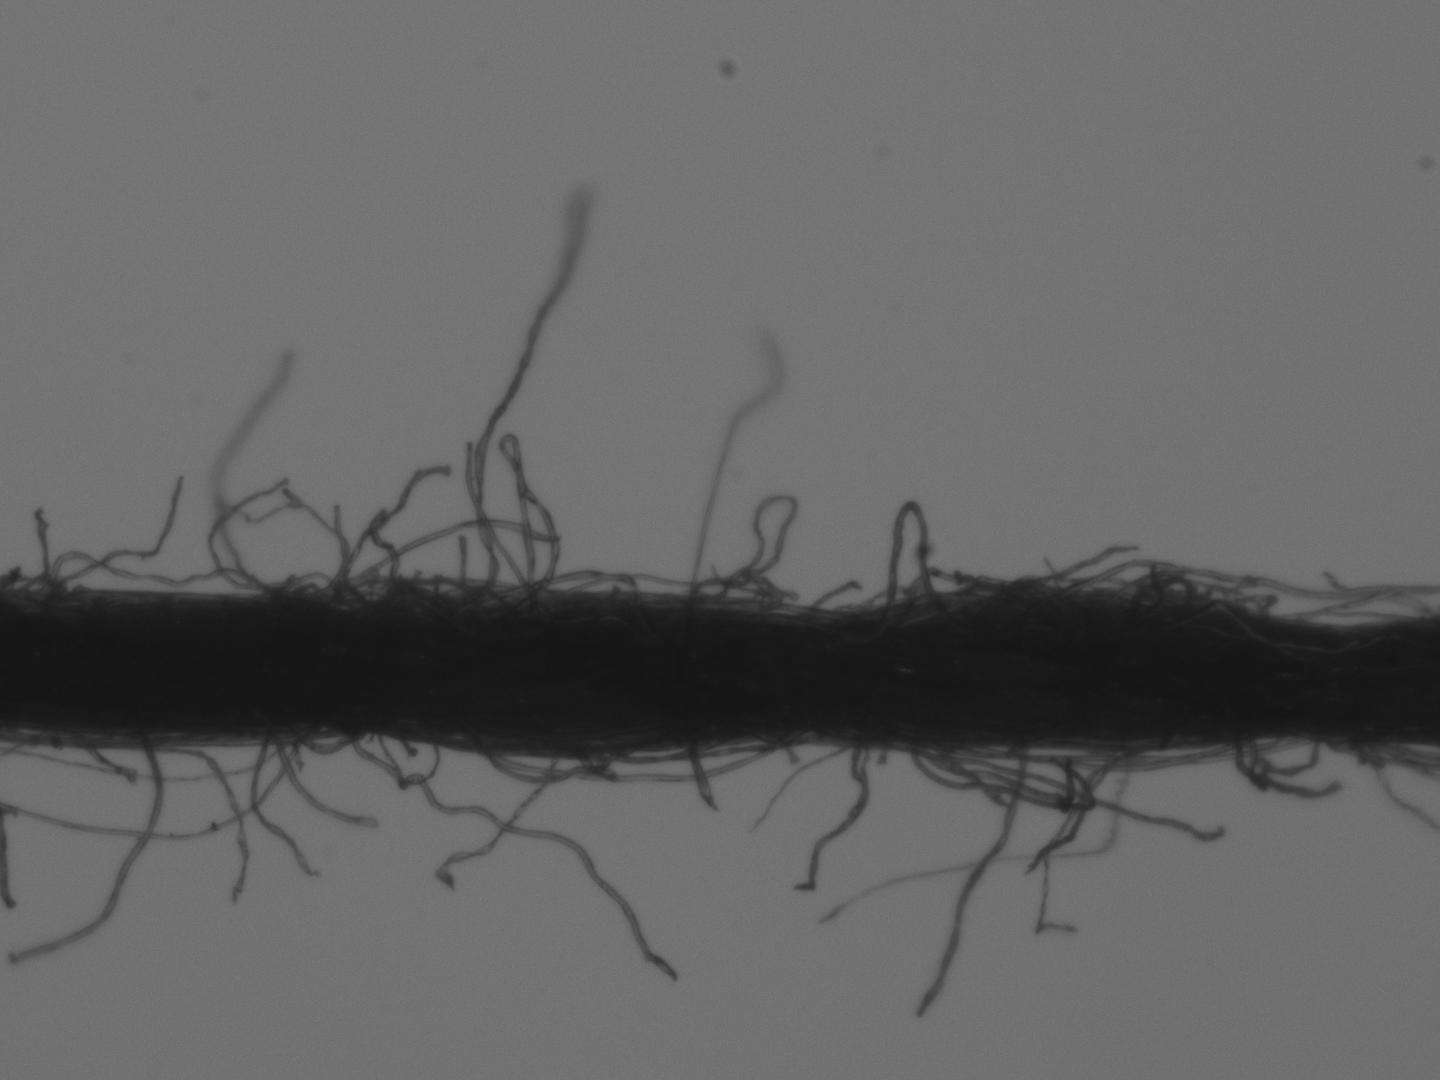loop_fiber: (920, 746, 1094, 815), (876, 505, 945, 627), (1102, 577, 1265, 624), (476, 746, 626, 785), (1286, 593, 1429, 628), (341, 735, 431, 782), (685, 572, 786, 613), (251, 573, 334, 613), (429, 572, 503, 613), (1243, 740, 1320, 776), (559, 575, 638, 601), (2, 569, 67, 597), (291, 729, 357, 754)
protruding_fiber: (373, 736, 687, 989), (912, 745, 1035, 1024), (804, 742, 866, 893), (252, 739, 317, 880), (277, 736, 378, 828), (679, 740, 717, 816), (32, 505, 63, 591), (78, 740, 135, 781)
